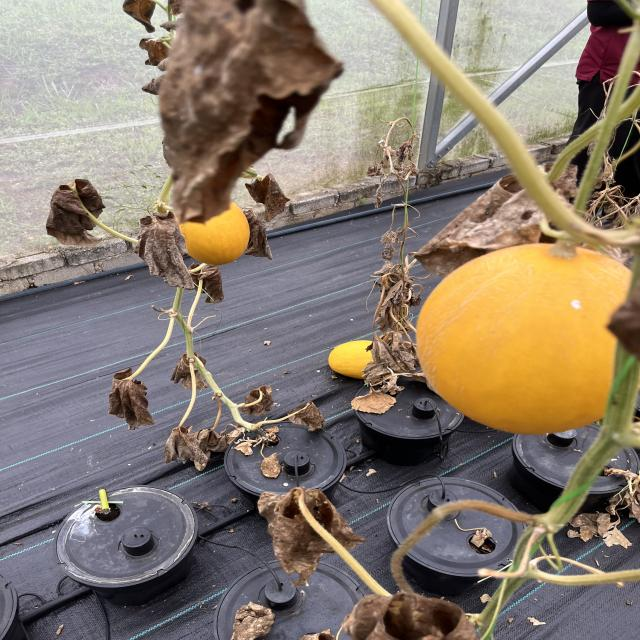bacterial wilt: (136, 211, 194, 292), (46, 181, 101, 245), (373, 264, 419, 339), (368, 333, 425, 389), (167, 426, 223, 469), (112, 370, 152, 426), (234, 599, 274, 640), (608, 470, 640, 518), (247, 182, 287, 220), (240, 219, 272, 261), (173, 353, 207, 392), (195, 268, 227, 304), (291, 401, 324, 430), (572, 513, 609, 538), (352, 392, 392, 415), (244, 386, 274, 414), (602, 530, 629, 549)
